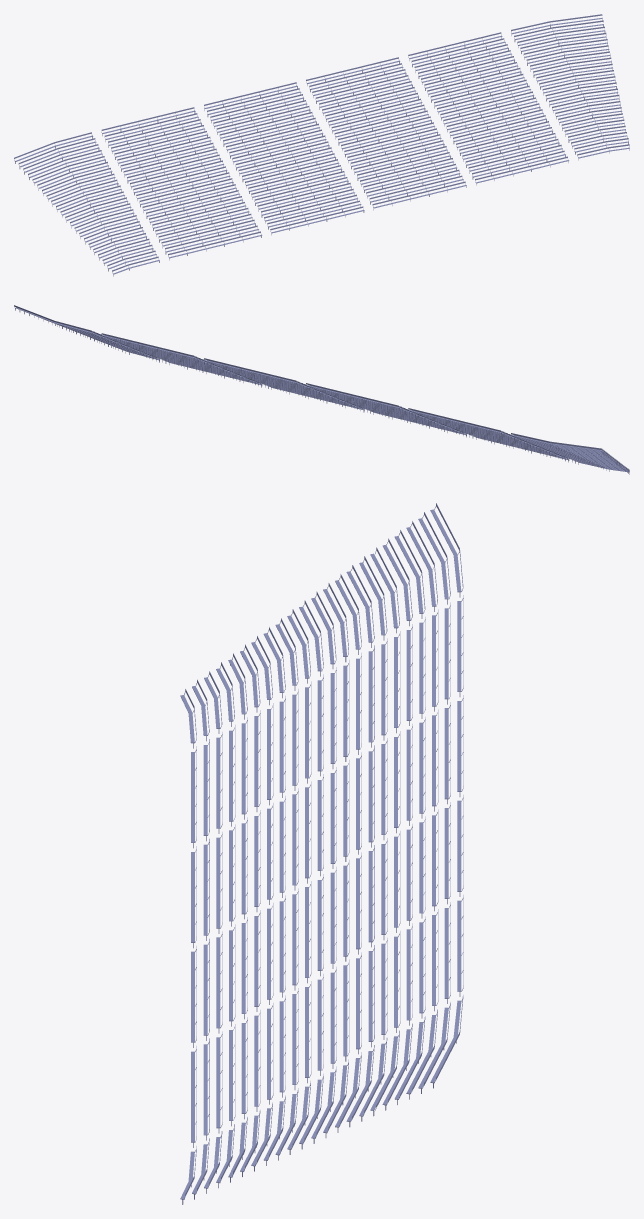
3 views of the same model, one above another, from view 1: azimuth 30°, elevation 25°; view 2: azimuth 150°, elevation 25°; view 3: azimuth 270°, elevation 25° (orthographic). The views are drawn at different scales.
Parts seen in each view (by area): view 1: bench_south; view 2: bench_south; view 3: bench_south.
Boxes of the visible parts, x1,y1,x2,y2 form: bench_south: [14, 14, 629, 276]; bench_south: [14, 305, 629, 474]; bench_south: [180, 503, 463, 1204].
Bounding box in the file's own units: 85.64 × 11.32 × 17.86.
